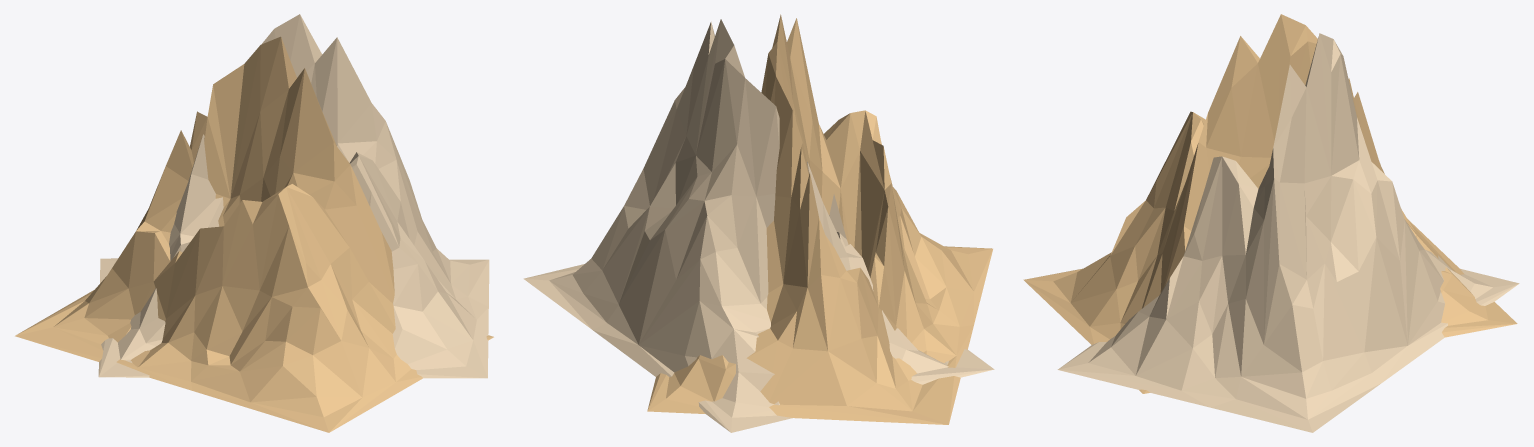
Rendered from mount5_00008.fbx.
The picture shows the model from 3 angles, left to right: view 1: azimuth 30°, elevation 25°; view 2: azimuth 150°, elevation 25°; view 3: azimuth 270°, elevation 25°; orthographic projection. The views are drawn at different scales.
Parts seen in each view (by area): view 1: mount5; view 2: mount5; view 3: mount5.
Boxes of the visible parts, x1,y1,x2,y2 form: mount5: (15,14,493,432); mount5: (523,14,994,432); mount5: (1023,14,1519,432).
Bounding box in the file's own units: 6020 × 3822 × 5656.
